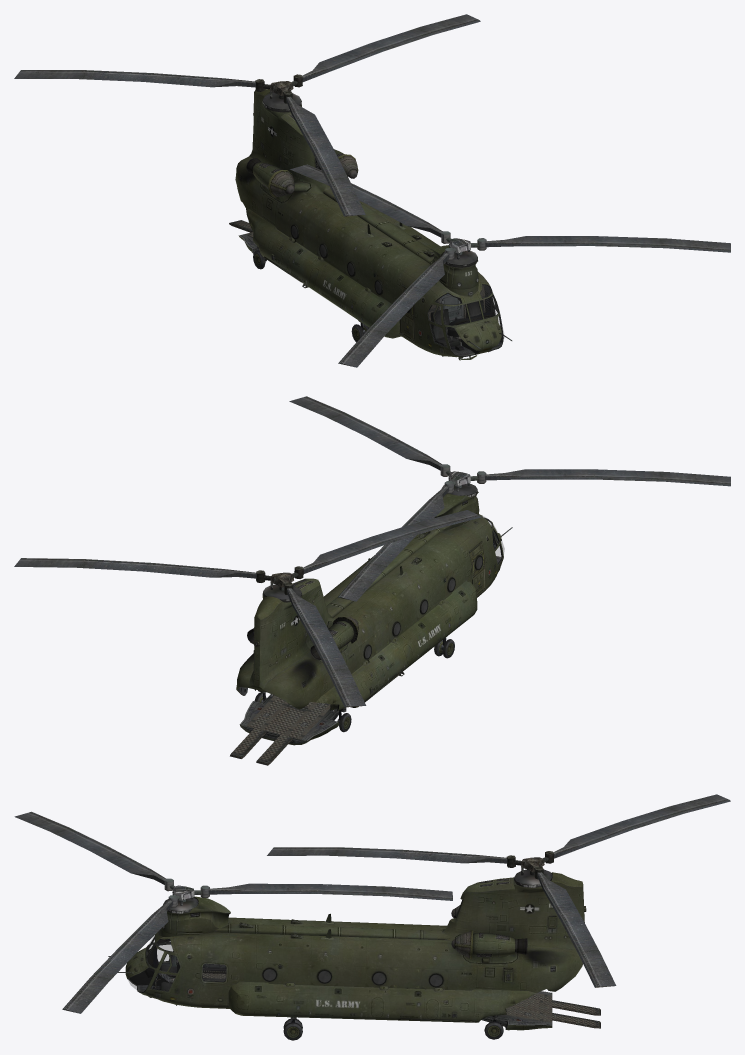
3 views of the same model, one above another, from view 1: azimuth 30°, elevation 25°; view 2: azimuth 150°, elevation 25°; view 3: azimuth 270°, elevation 25° (orthographic).
Parts seen in each view (by area): view 1: Object_3, RotorRear, RotorFront, Object_2; view 2: Object_3, RotorRear, RotorFront, Object_5; view 3: Object_3, RotorRear, RotorFront, Object_5, Object_2.
Boxes of the visible parts, box(x1,y1,x2,y2) form: Object_3: box(235, 89, 512, 360); RotorRear: box(14, 14, 480, 216); RotorFront: box(290, 164, 730, 367); Object_2: box(318, 246, 504, 356); Object_3: box(230, 483, 512, 765); RotorRear: box(14, 510, 481, 707); RotorFront: box(289, 396, 730, 601); Object_5: box(231, 688, 330, 765); Object_3: box(108, 869, 600, 1040); RotorRear: box(267, 794, 730, 987); RotorFront: box(14, 811, 452, 1013); Object_5: box(202, 973, 600, 1028); Object_2: box(128, 935, 225, 991).
Bounding box in the file's own units: 213 × 77.21 × 313.
Materials: 8 (8 with a texture image).
